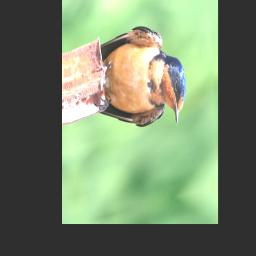Swallow: (88, 14, 189, 147)
